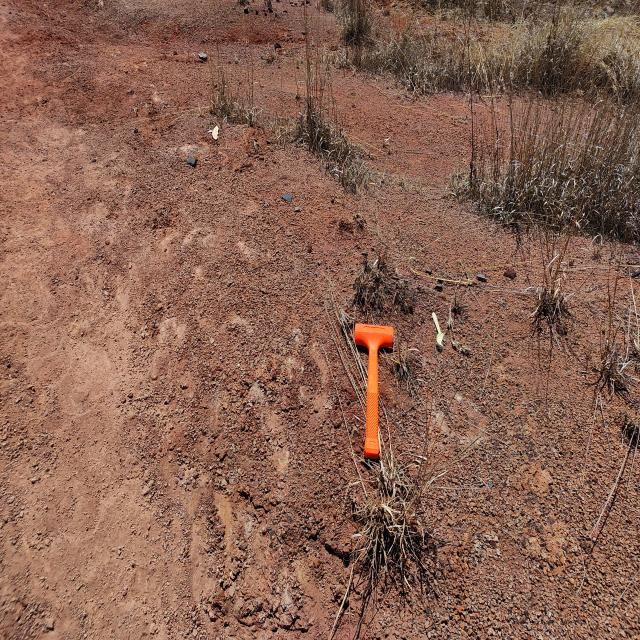Orange_hammer: (353, 322, 394, 460)
